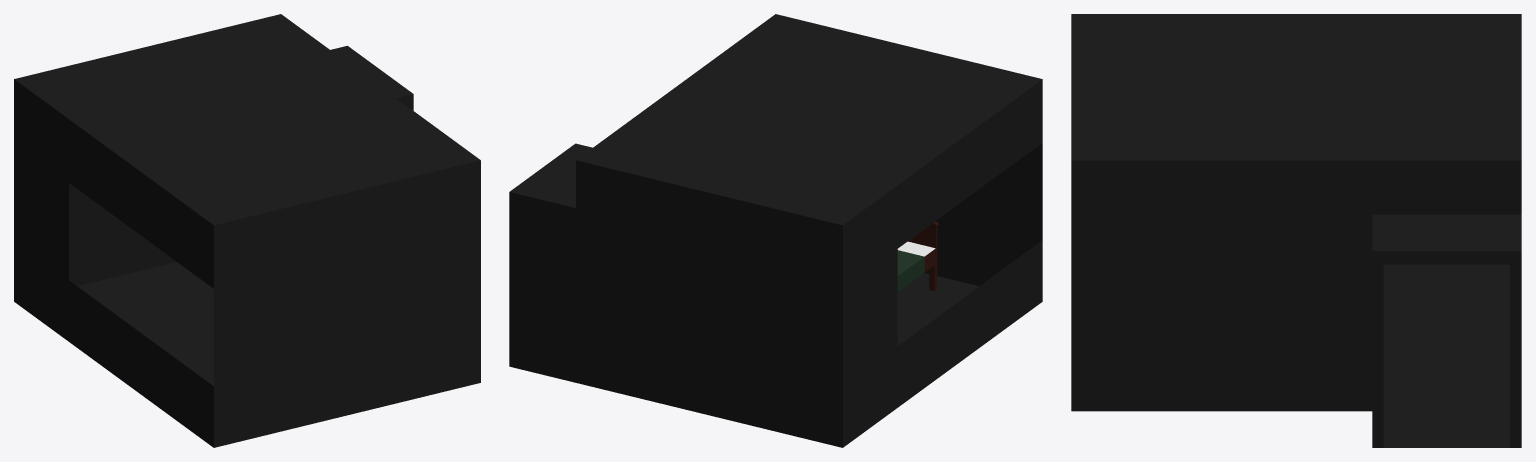
The model's file is Room.glb.
3 renders of one model, left to right at view 1: azimuth 30°, elevation 25°; view 2: azimuth 150°, elevation 25°; view 3: azimuth 270°, elevation 25°, orthographic. The views are drawn at different scales.
Visible parts, largest first — view 1: Plane; view 2: Plane, Cube; view 3: Plane.
Boxes of the visible parts, x1=… form: Plane: x1=14, y1=14, x2=480, y2=447; Plane: x1=509, y1=14, x2=1042, y2=447; Cube: x1=897, y1=221, x2=938, y2=291; Plane: x1=1071, y1=14, x2=1521, y2=447.
Size of the model in its own units: 5.02 by 3.2 by 5.21.
Materials: 3 (3 with a texture image).
